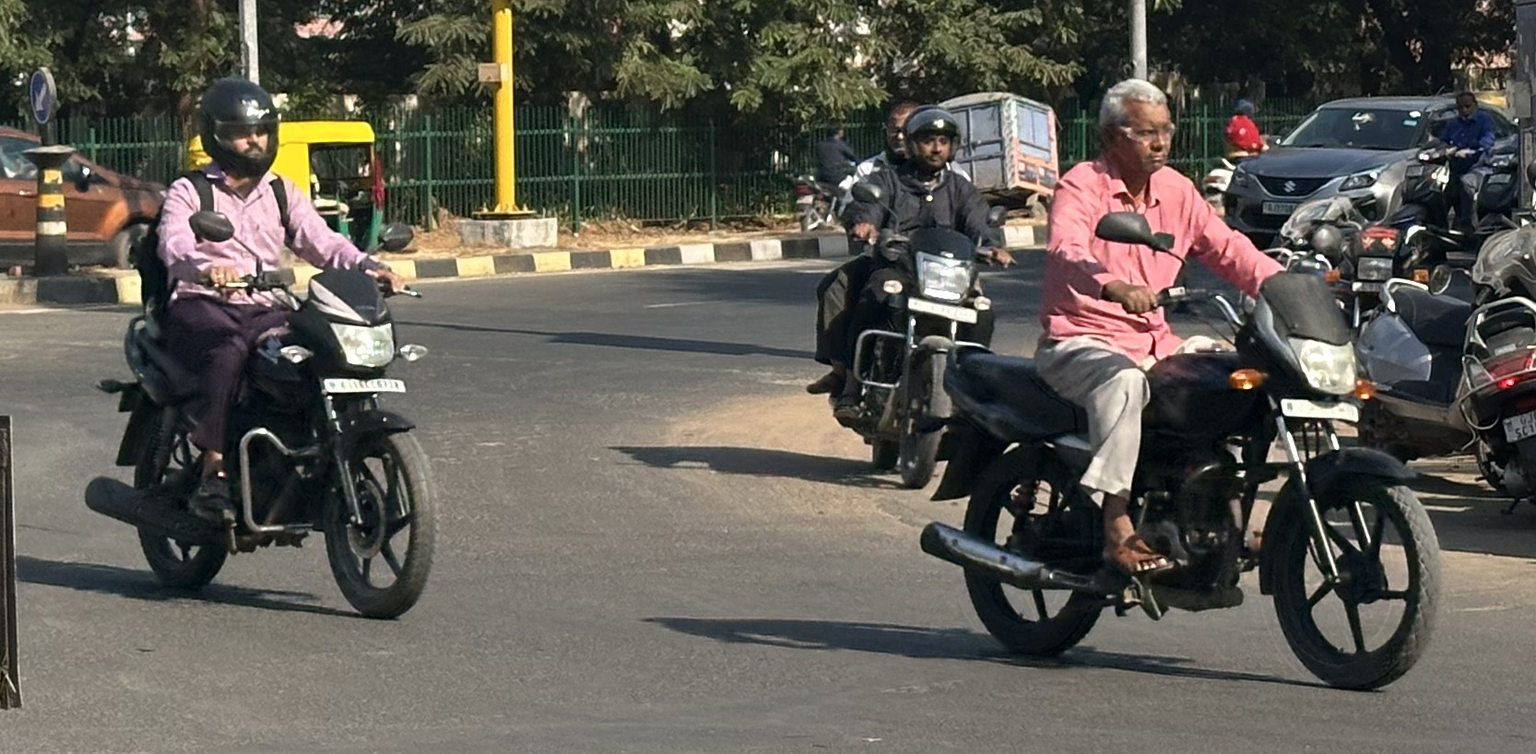BikeWithRider: (913, 68, 1454, 696), (71, 69, 452, 625), (796, 90, 1015, 491)
Helmet: (185, 69, 292, 182), (891, 102, 968, 182)
NoHelmet: (1084, 72, 1187, 183), (878, 98, 933, 157)
